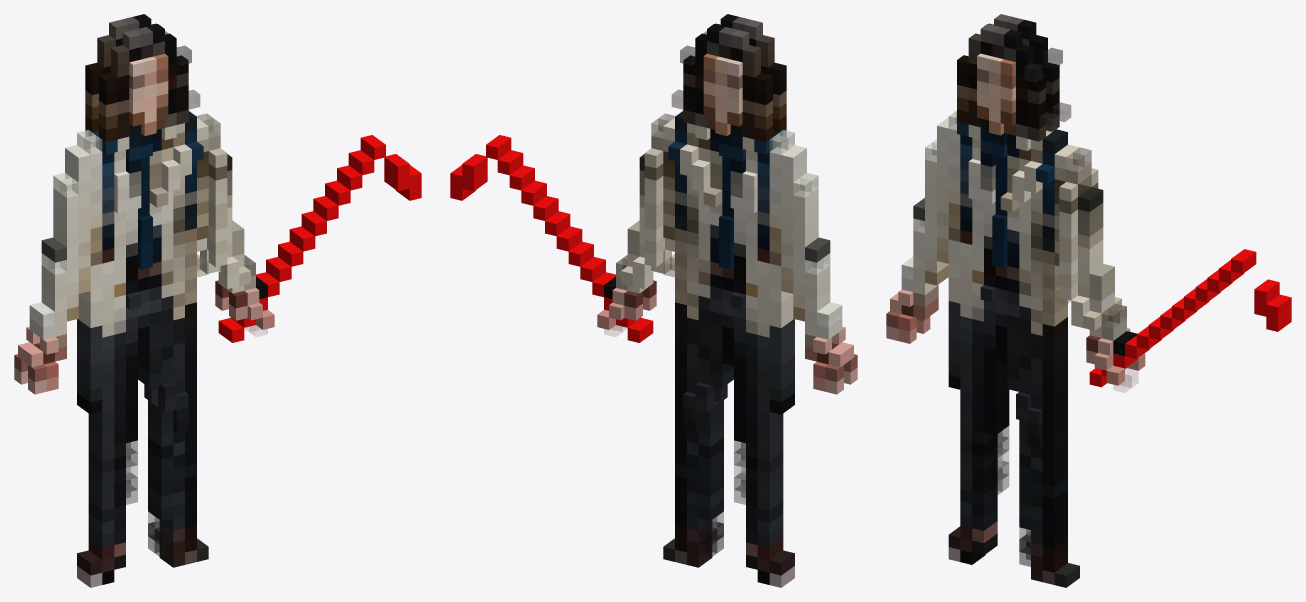
File: solrac2D.obj
3 renders of one model, left to right at view 1: azimuth 30°, elevation 25°; view 2: azimuth 150°, elevation 25°; view 3: azimuth 330°, elevation 25°, orthographic.
Bounding box in the file's own units: 33 × 44 × 4.
